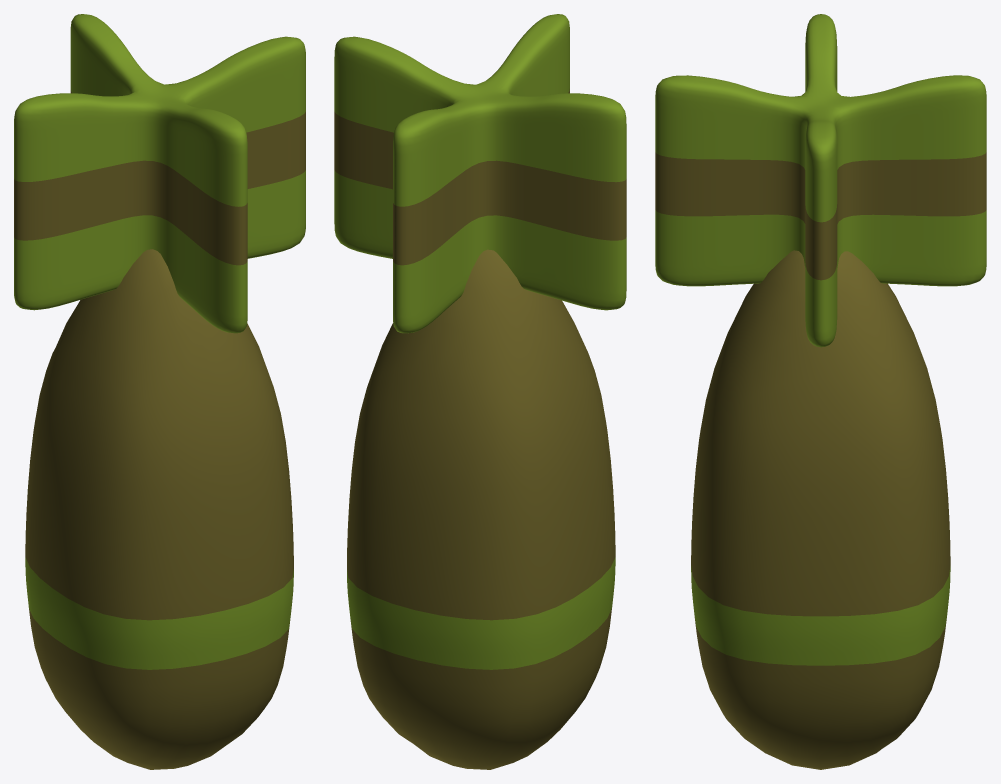
File: bombe.fbx
3 renders of one model, left to right at view 1: azimuth 30°, elevation 25°; view 2: azimuth 150°, elevation 25°; view 3: azimuth 270°, elevation 25°, orthographic.
Visible parts, largest first — view 1: Cube; view 2: Cube; view 3: Cube.
Part boxes in pixels (box(x1,y1,x2,y2)): Cube: box(14, 14, 305, 769); Cube: box(334, 14, 626, 769); Cube: box(655, 14, 986, 769).
Bounding box in the file's own units: 149 × 339 × 148.
